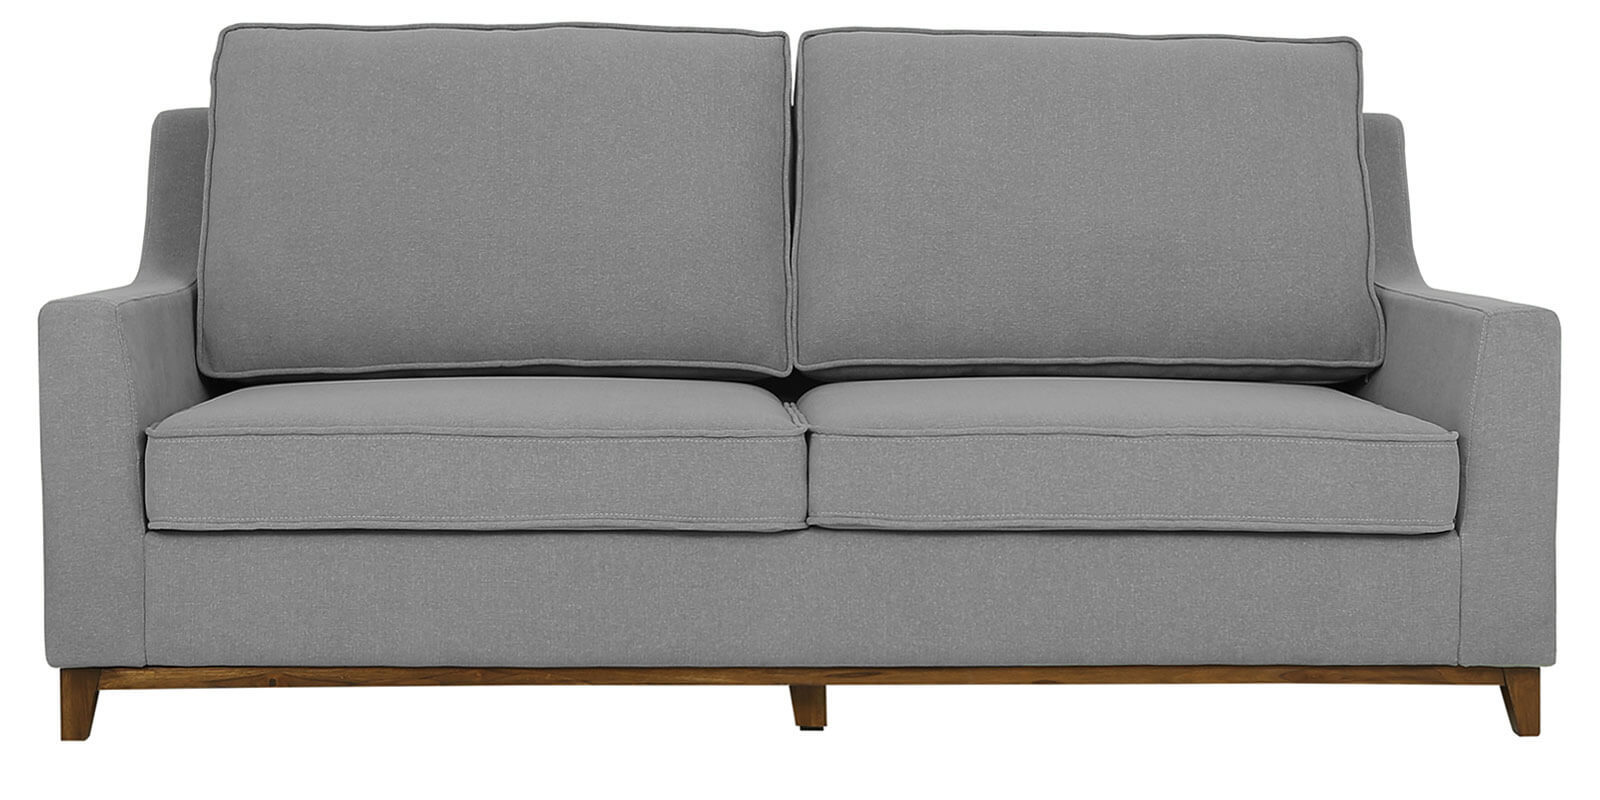Diego Three Seater Sofa in Ash Grey Colour by CasaCraft: (38, 18, 1567, 755)
